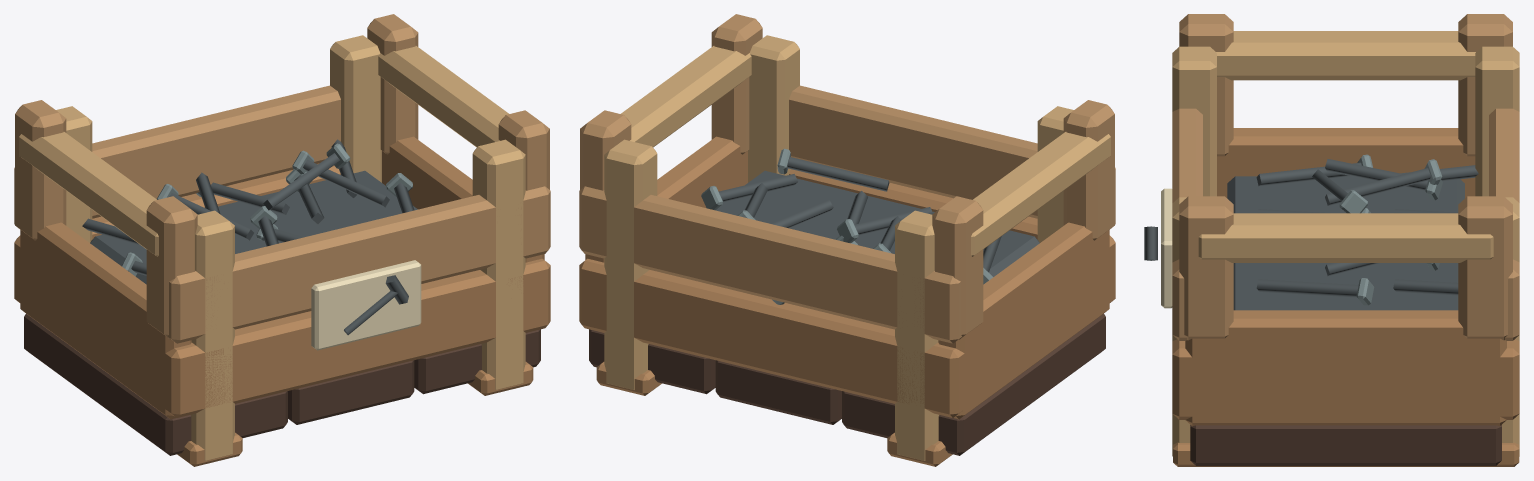
The model's file is goods_nails_box.glb.
3 renders of one model, left to right at view 1: azimuth 30°, elevation 25°; view 2: azimuth 150°, elevation 25°; view 3: azimuth 270°, elevation 25°, orthographic. The views are drawn at different scales.
Parts seen in each view (by area): view 1: goods_nails_box; view 2: goods_nails_box; view 3: goods_nails_box.
Boxes of the visible parts, x1,y1,x2,y2 form: goods_nails_box: (14,14,550,466); goods_nails_box: (579,14,1115,466); goods_nails_box: (1144,14,1519,466).
Size of the model in its own units: 0.484 by 0.301 by 0.3795.
